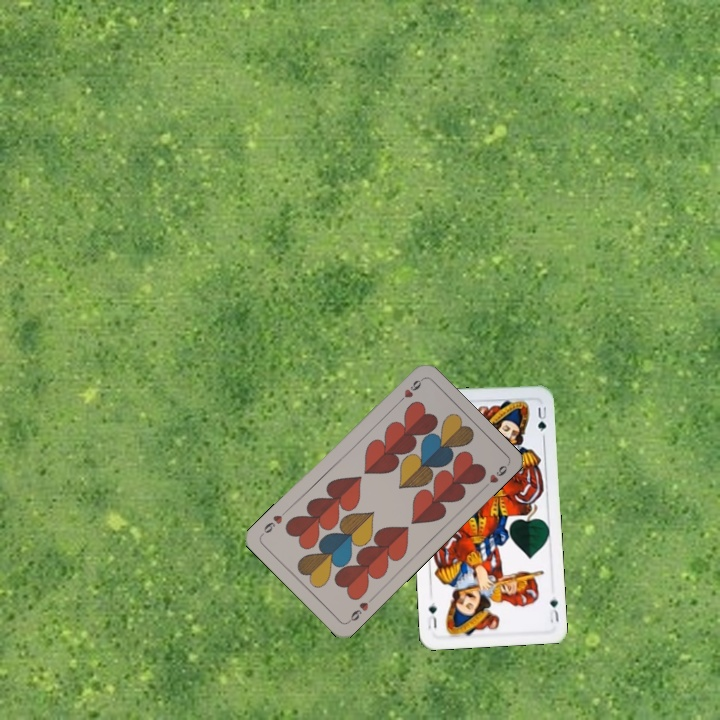GU: (545, 592, 561, 625)
H9: (343, 593, 376, 625), (393, 375, 425, 407)
